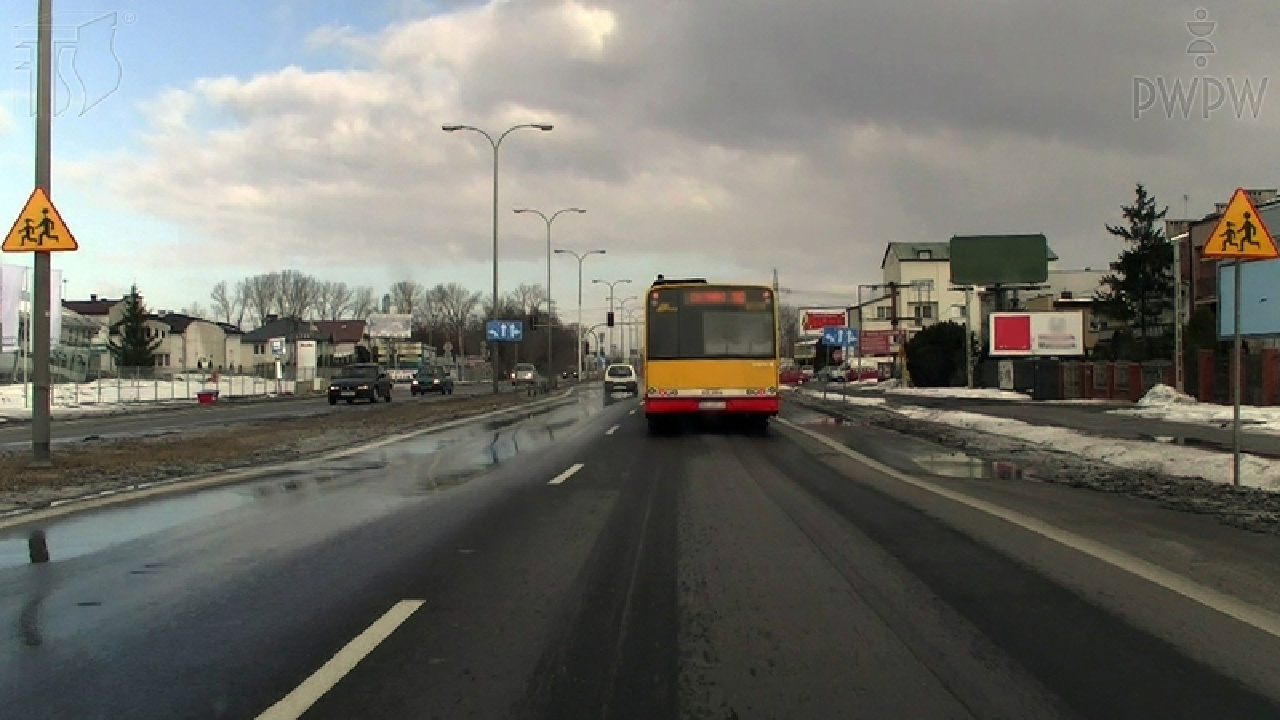A17: (1193, 181, 1280, 261), (2, 187, 88, 255)
